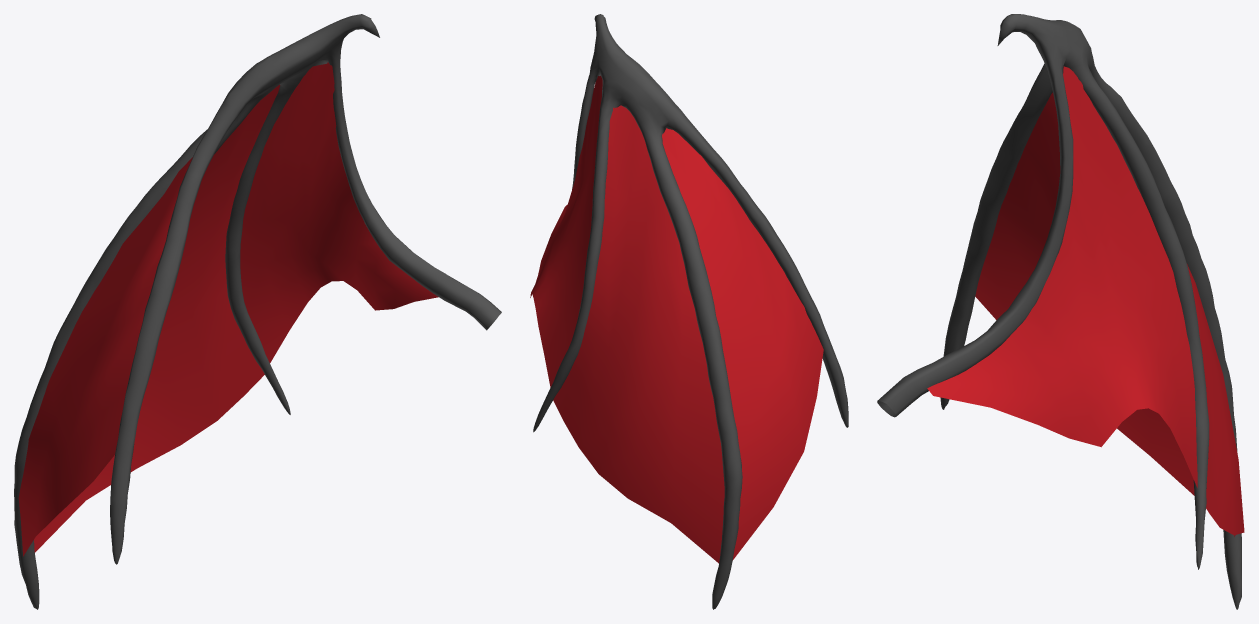
File: Wing(Bad).fbx
3 views of the same model, side by side, from view 1: azimuth 30°, elevation 25°; view 2: azimuth 150°, elevation 25°; view 3: azimuth 270°, elevation 25° (orthographic). The views are drawn at different scales.
Visible parts, largest first — view 1: DemonWing; view 2: DemonWing; view 3: DemonWing.
Part boxes in pixels (x1,y1,x2,y2): DemonWing: [14, 14, 501, 609]; DemonWing: [530, 14, 848, 609]; DemonWing: [877, 14, 1244, 609].
Size of the model in its own units: 57 by 90.63 by 41.18.
Materials: 1 (1 with a texture image).
